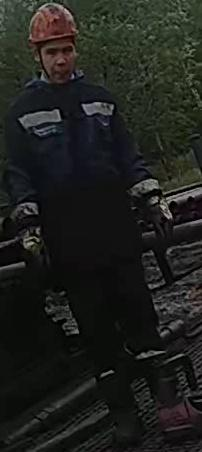gloves: (126, 177, 174, 250), (6, 201, 46, 264)
helmet: (27, 2, 78, 45)
vest: (9, 81, 147, 274)
